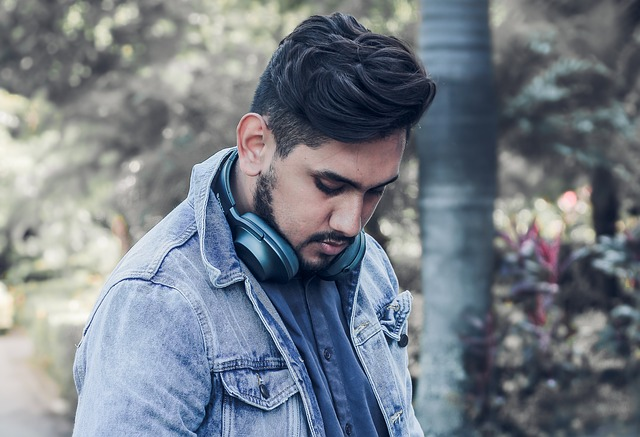headphones: (221, 148, 367, 284)
